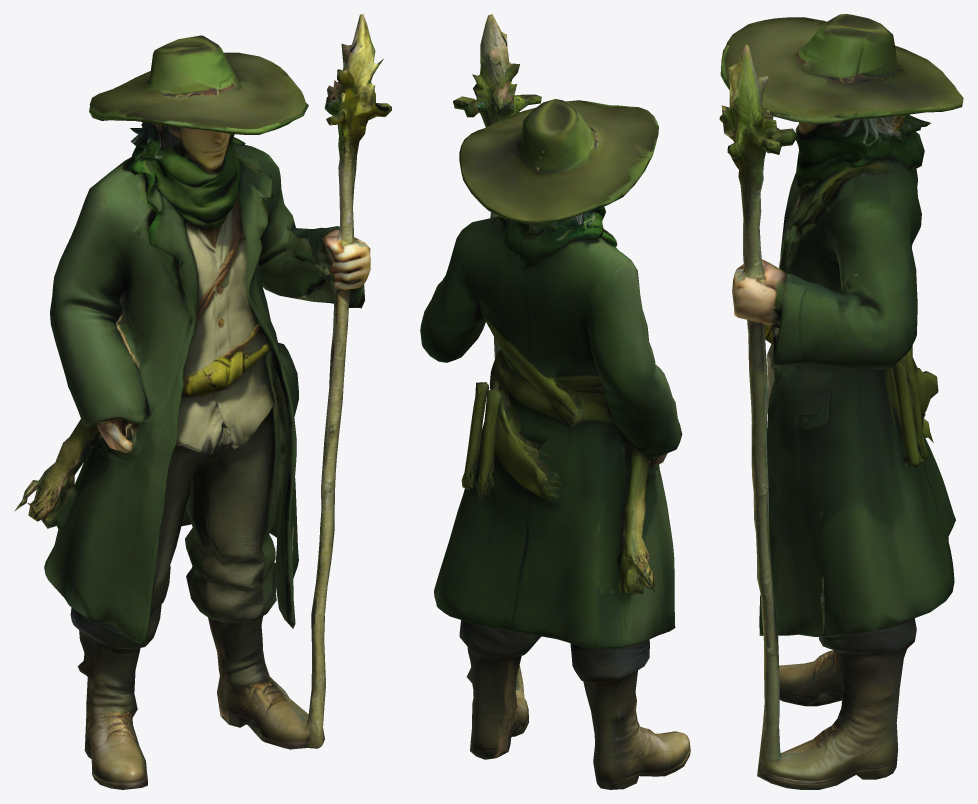
Rendered from Chara01.fbx.
The picture shows the model from 3 angles, left to right: view 1: azimuth 30°, elevation 25°; view 2: azimuth 150°, elevation 25°; view 3: azimuth 270°, elevation 25°; orthographic projection. The views are drawn at different scales.
Visible parts, largest first — view 1: Mesh_0; view 2: Mesh_0; view 3: Mesh_0.
Part boxes in pixels (x1,y1,x2,y2): Mesh_0: (14, 14, 391, 789); Mesh_0: (420, 14, 690, 789); Mesh_0: (719, 14, 963, 789).
Bounding box in the file's own units: 82.42 × 201 × 58.79.
Materials: 1 (1 with a texture image).
